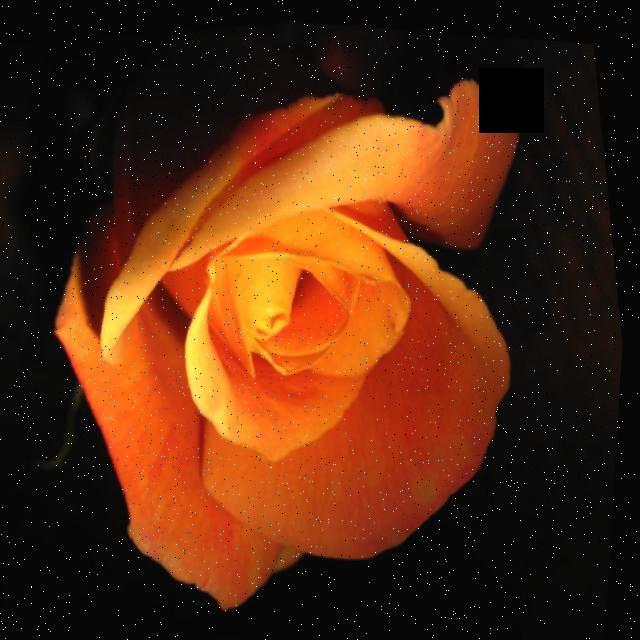rose: (0, 0, 604, 640)
